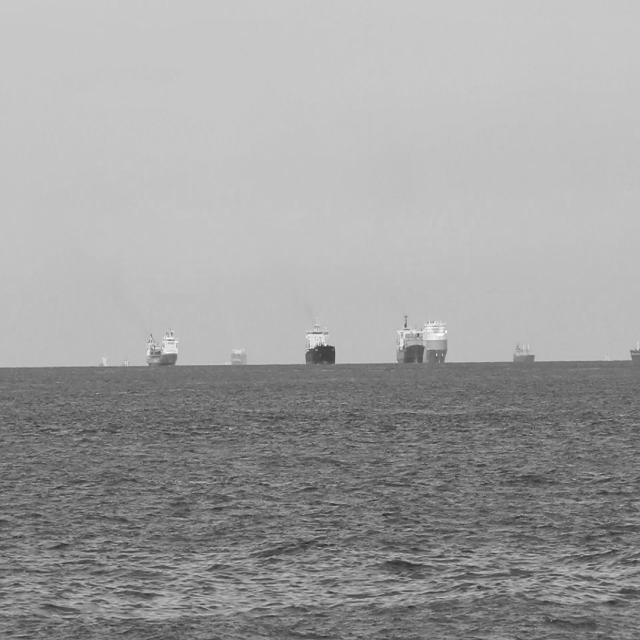ship: (392, 308, 427, 365), (303, 313, 337, 369), (144, 326, 181, 368), (422, 311, 448, 366), (511, 337, 537, 364), (229, 345, 249, 366), (96, 348, 109, 368), (628, 342, 638, 364), (122, 352, 131, 368)
